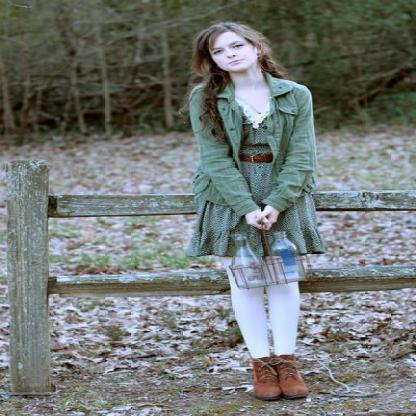bag: (216, 245, 308, 301)
jacket: (179, 77, 342, 264)
shoe: (246, 354, 310, 406)
